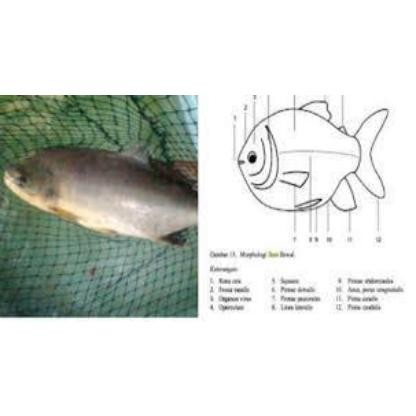ikan-pacu: (0, 143, 196, 242)
